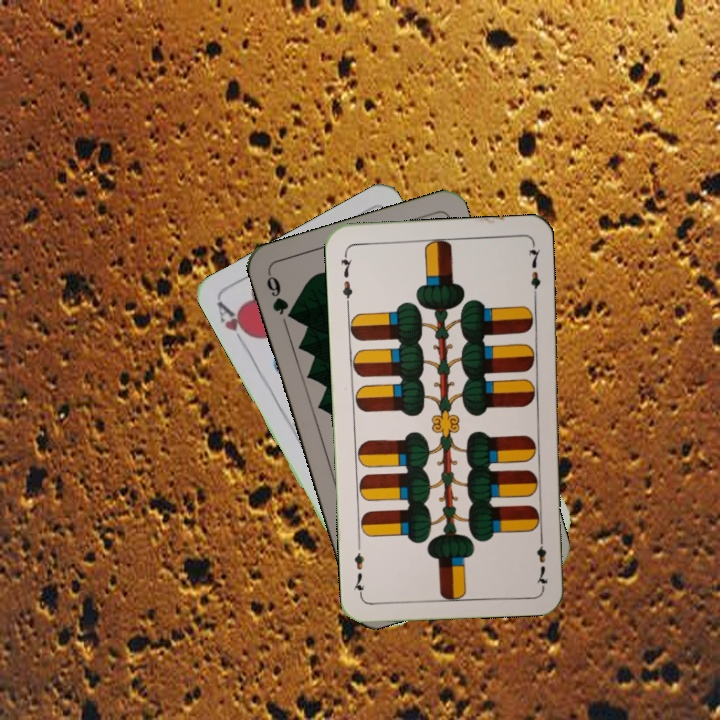E7: (336, 248, 356, 307), (532, 530, 551, 589)
G9: (262, 269, 298, 323)
HA: (213, 297, 257, 352)
